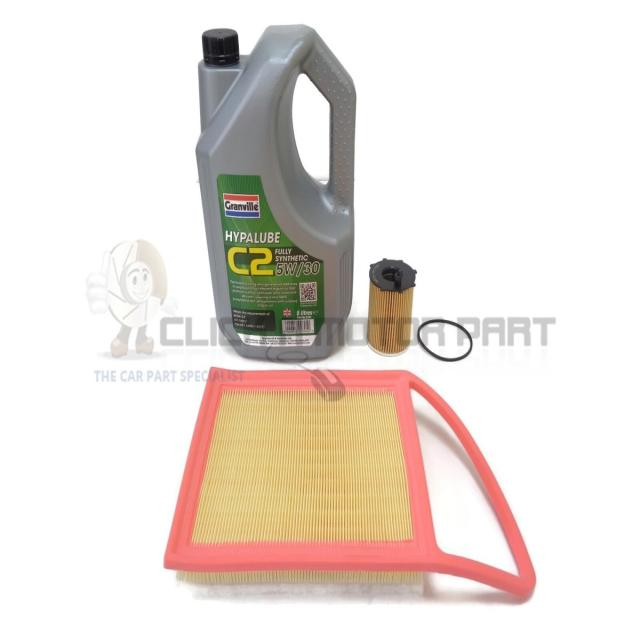air_filter: (184, 366, 541, 606)
motor_oil: (191, 17, 359, 363)
oil_filter: (365, 252, 417, 358)
